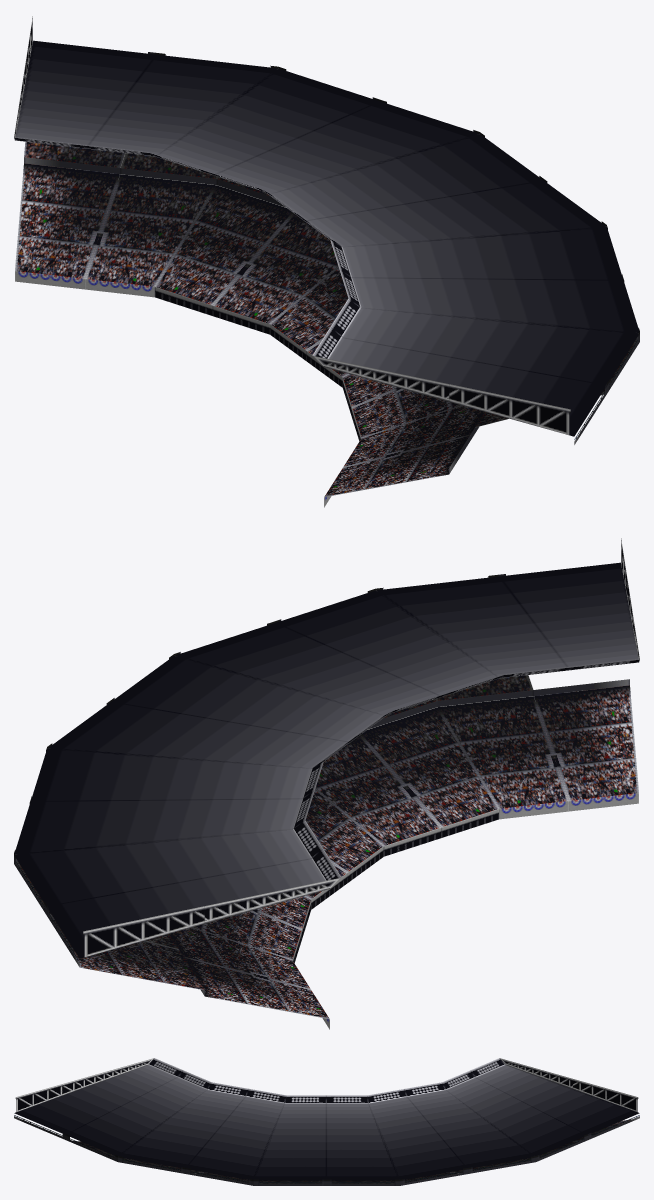
The picture shows the model from 3 angles, top to bottom: view 1: azimuth 30°, elevation 25°; view 2: azimuth 150°, elevation 25°; view 3: azimuth 270°, elevation 25°; orthographic projection. The views are drawn at different scales.
Size of the model in its own units: 89.72 by 33.8 by 221.
10 materials, 10 textured.
